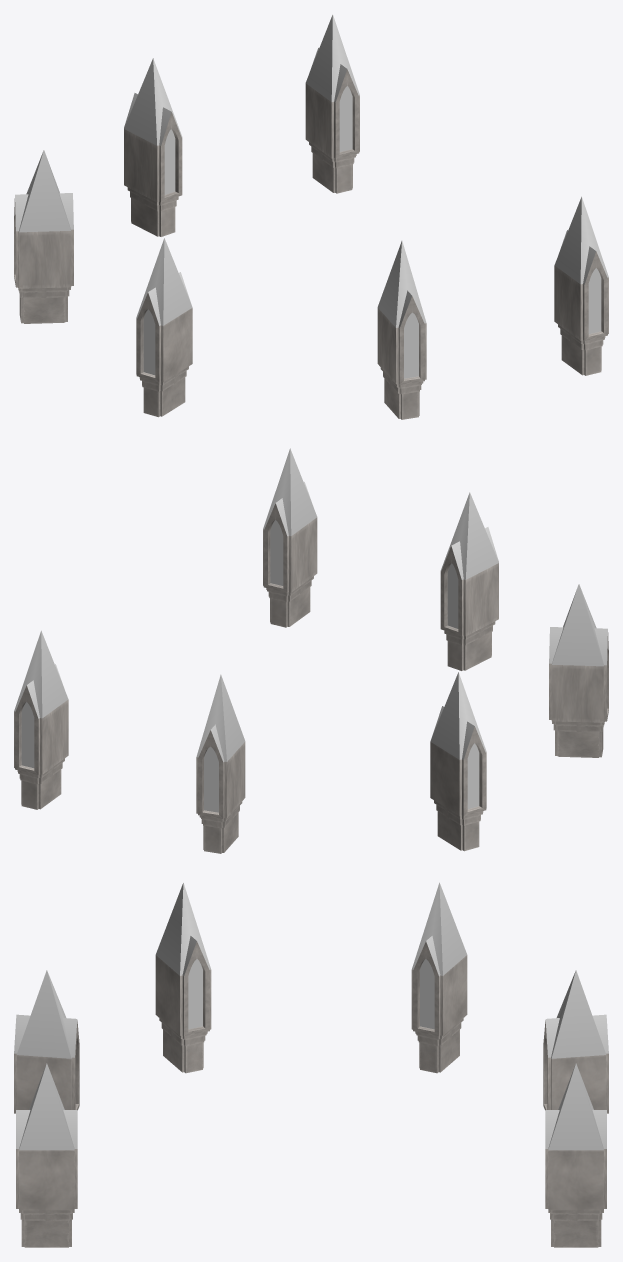
File: Ambulatory_Inner_Post_Top.fbx
3 views of the same model, one above another, from view 1: azimuth 30°, elevation 25°; view 2: azimuth 150°, elevation 25°; view 3: azimuth 270°, elevation 25° (orthographic). The views are drawn at different scales.
Visible parts, largest first — view 1: Ambulatory_Inner_Post_Top; view 2: Ambulatory_Inner_Post_Top; view 3: Ambulatory_Inner_Post_Top.
Part boxes in pixels (x1,y1,x2,y2): Ambulatory_Inner_Post_Top: (14, 14, 608, 419); Ambulatory_Inner_Post_Top: (14, 448, 608, 853); Ambulatory_Inner_Post_Top: (14, 882, 608, 1247).
Bounding box in the file's own units: 11 × 13.49 × 4.56.
